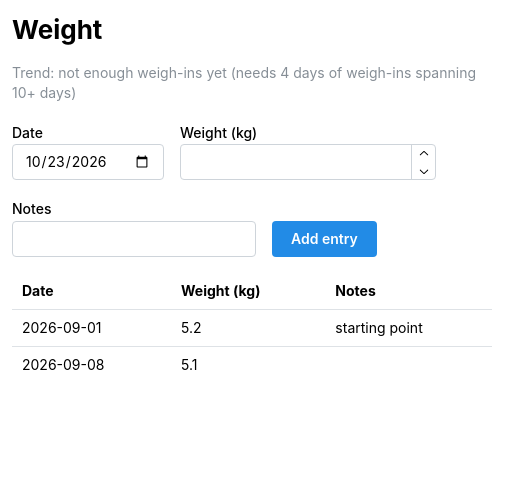
Test: WeightScreen › shows the server error when adding a weigh-in fails
Expected: the text "2026-09-01" is shown, x1=12 y1=310 x2=171 y2=346
Type "5" into the field labelled "Weight (kg)" at (308, 162), box x1=180 y1=144 x2=436 y2=180
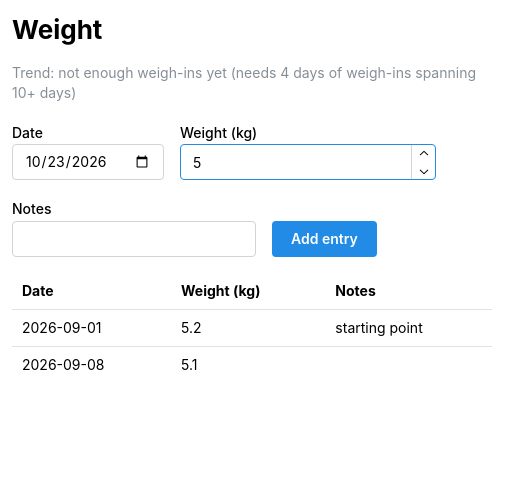
Click the button "Add entry" at (324, 239), box x1=272 y1=221 x2=377 y2=257
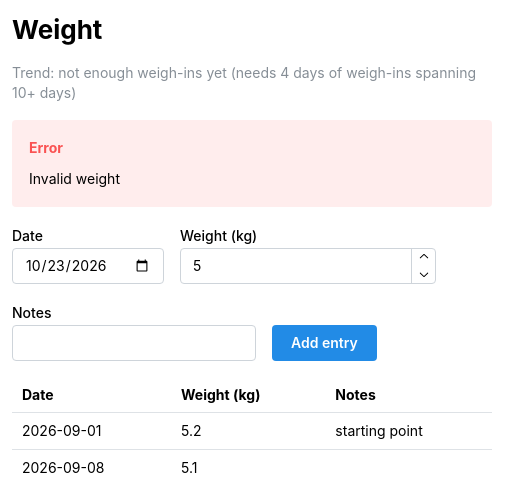
Now the text "Invalid weight" is shown, box x1=29 y1=170 x2=120 y2=187
